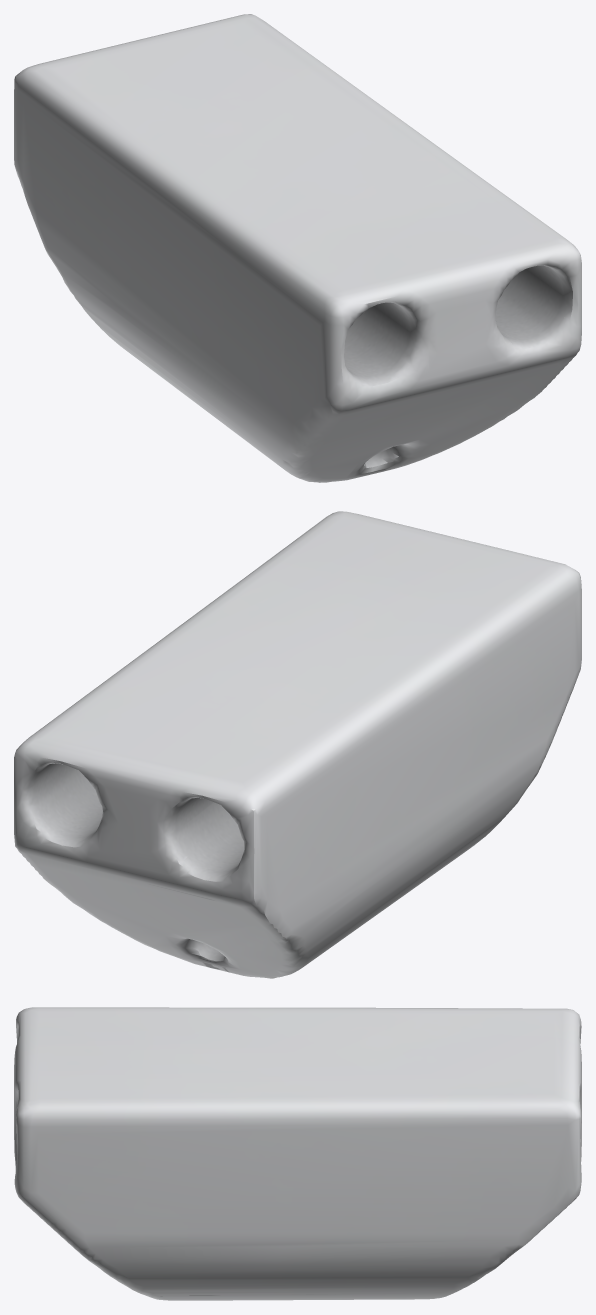
The model's file is right_finger2_lower.obj.
3 renders of one model, top to bottom at view 1: azimuth 30°, elevation 25°; view 2: azimuth 150°, elevation 25°; view 3: azimuth 270°, elevation 25°, orthographic. The views are drawn at different scales.
Visible parts, largest first — view 1: right_finger2_lower; view 2: right_finger2_lower; view 3: right_finger2_lower.
Boxes of the visible parts, <box> form: right_finger2_lower: <box>14,14,581,482</box>; right_finger2_lower: <box>14,511,581,978</box>; right_finger2_lower: <box>14,1007,581,1300</box>.
Bounding box in the file's own units: 0.0125 × 0.0125 × 0.028.
Materials: 1 (1 with a texture image).
